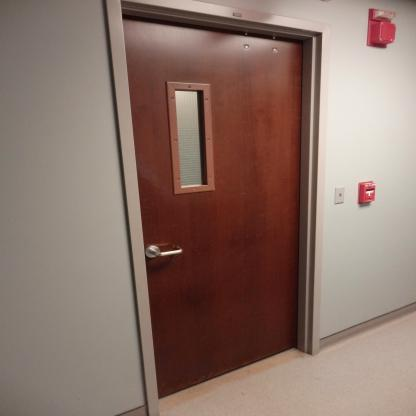door: (134, 26, 306, 395)
lever: (149, 240, 185, 263)
